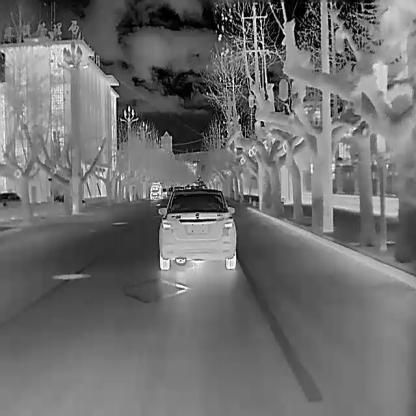car: (157, 188, 236, 268), (0, 191, 21, 207), (149, 181, 162, 199)
